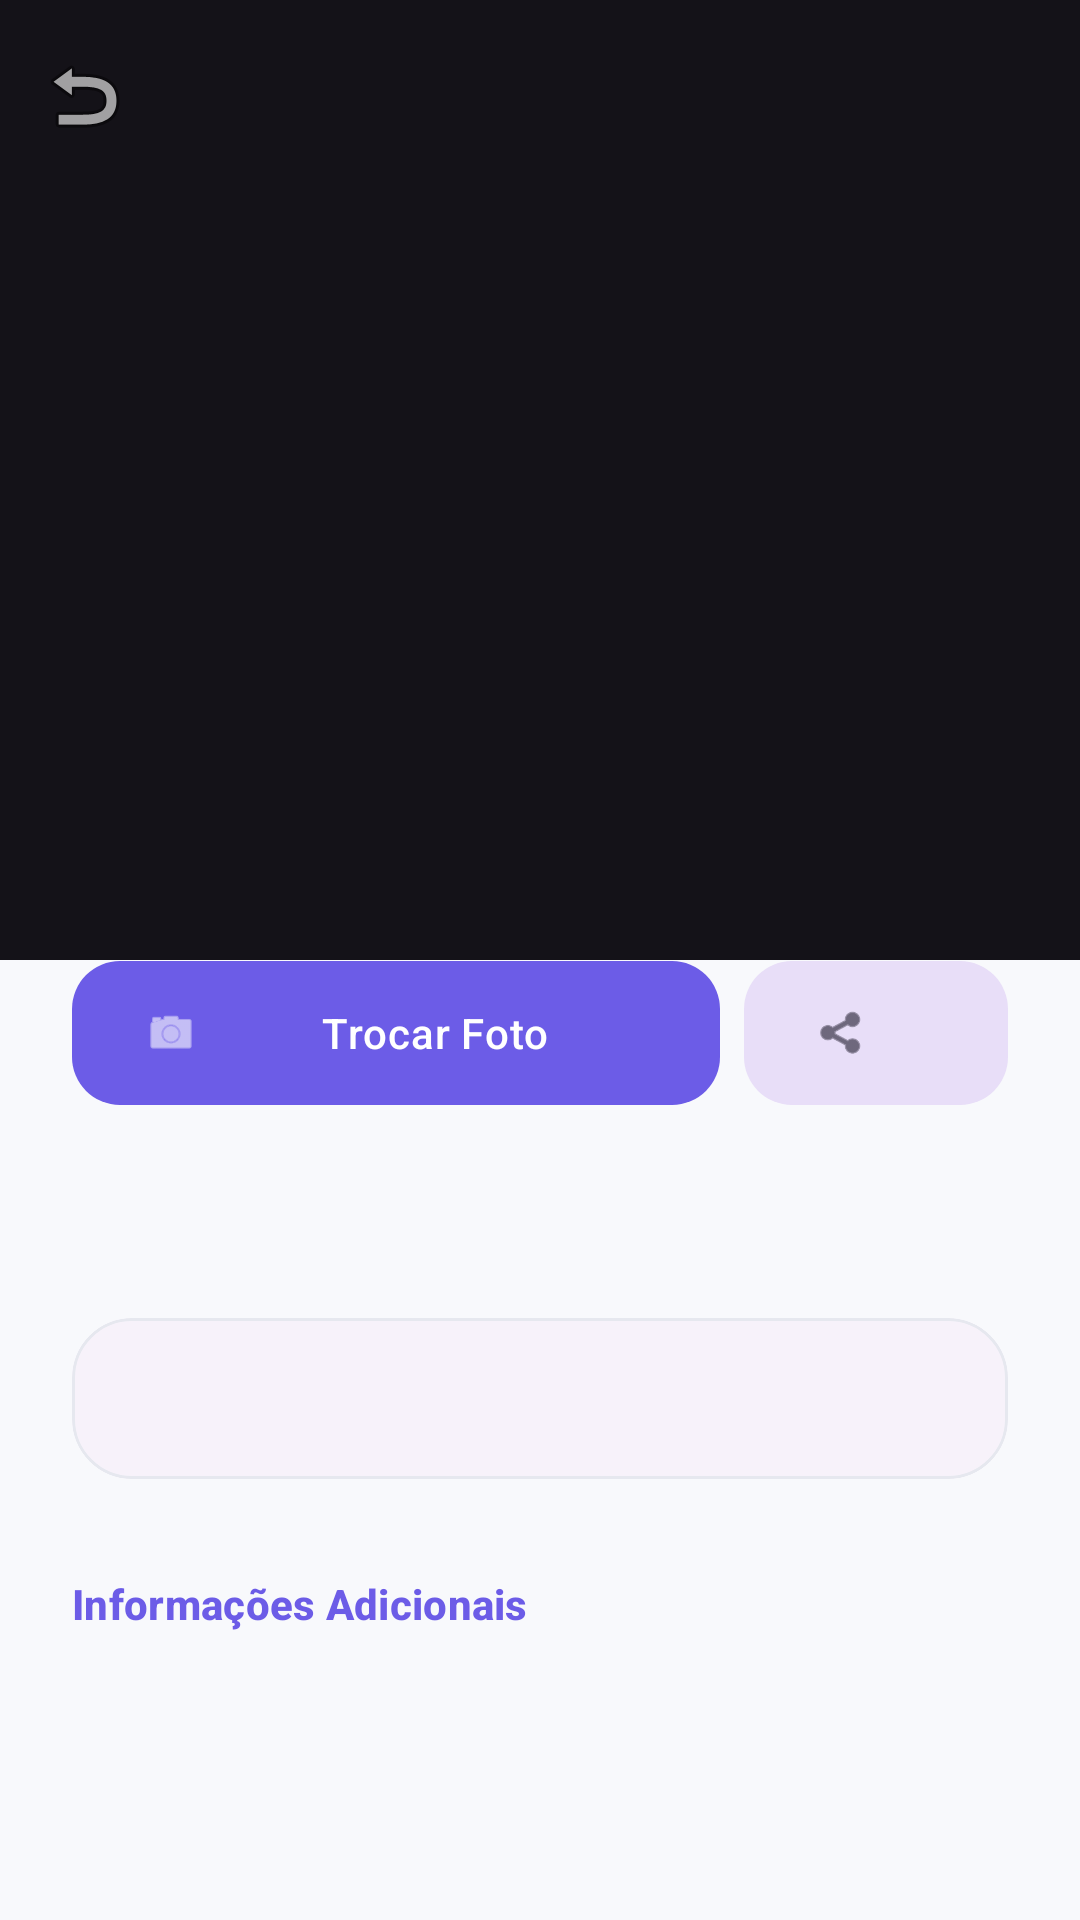

Screen size 1080 x 1920. Icon name, then its center in pixels as point (x, y):
Compartilhar: point (876, 1033)
